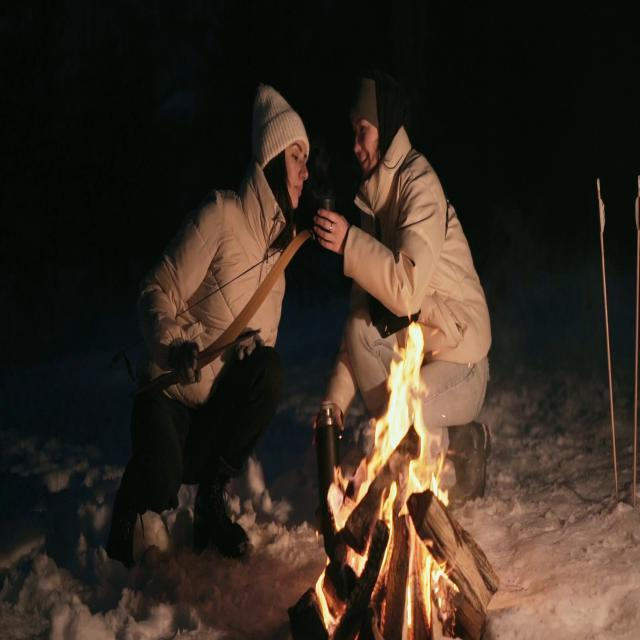Fire: (311, 322, 482, 637)
